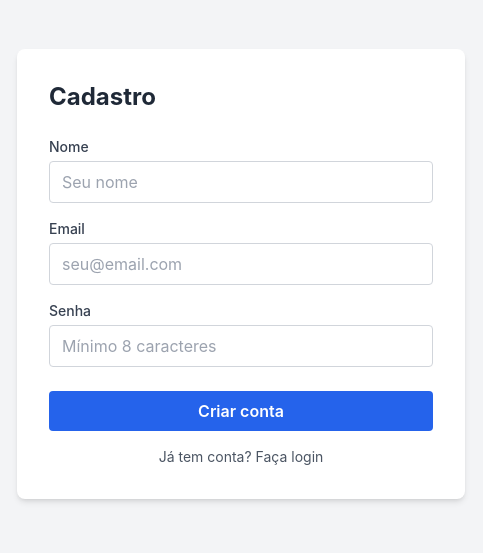
Scenario: Register component › shows error when submitting with all empty fields
Click the button "Criar conta" at [241, 411], box [49,391,433,431]
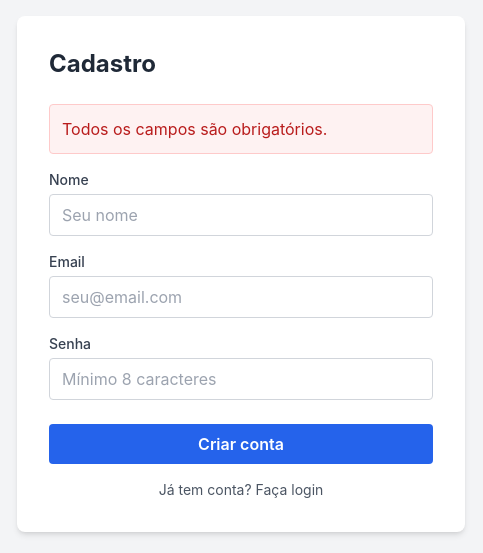
Check: the text "Todos os campos são obrigatórios." is shown, box [49,104,433,154]
